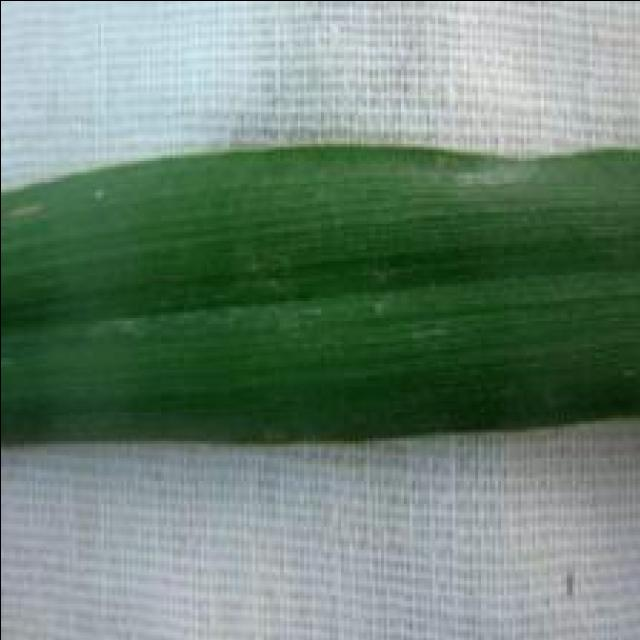Healthy: (0, 146, 640, 449)
